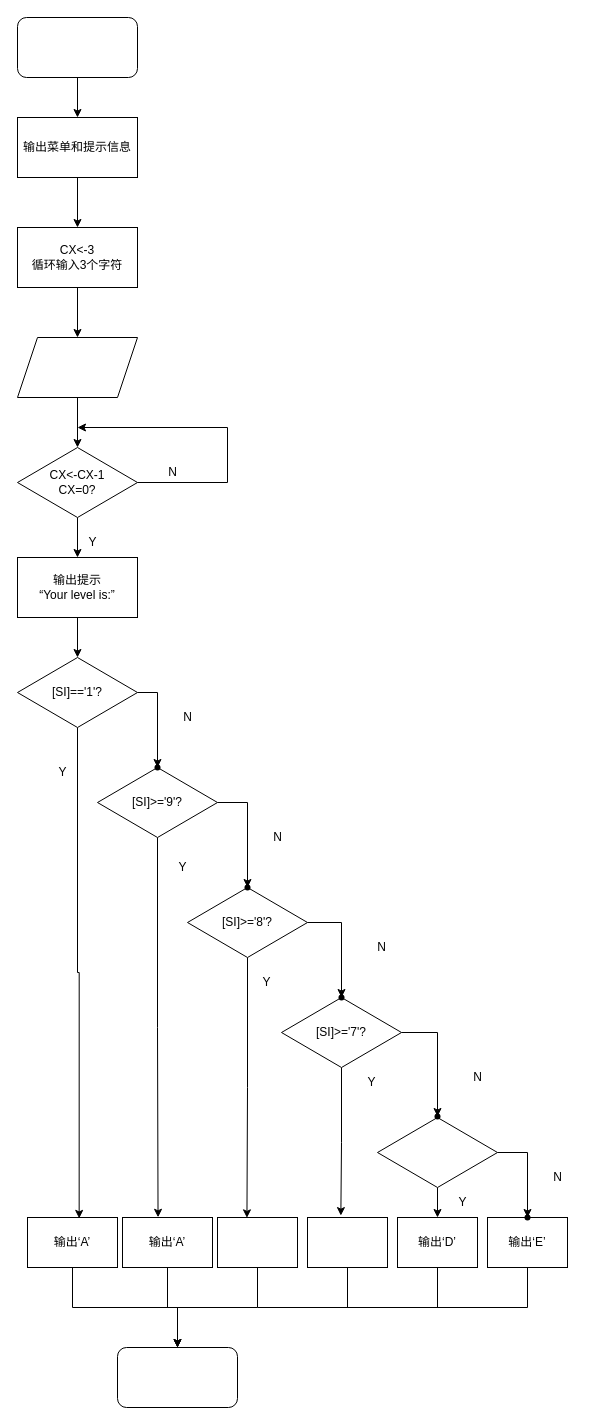
Image size: 590x1425. Some labels were removed from this diagram. The centre of each missing label's shape, as x and y in pixels:
[SI]>='6?: the point at 437,1152
开始: the point at 77,47
结束: the point at 177,1377
输入一个字符: the point at 77,367
输出‘B’: the point at 257,1242
输出‘C’: the point at 347,1242
